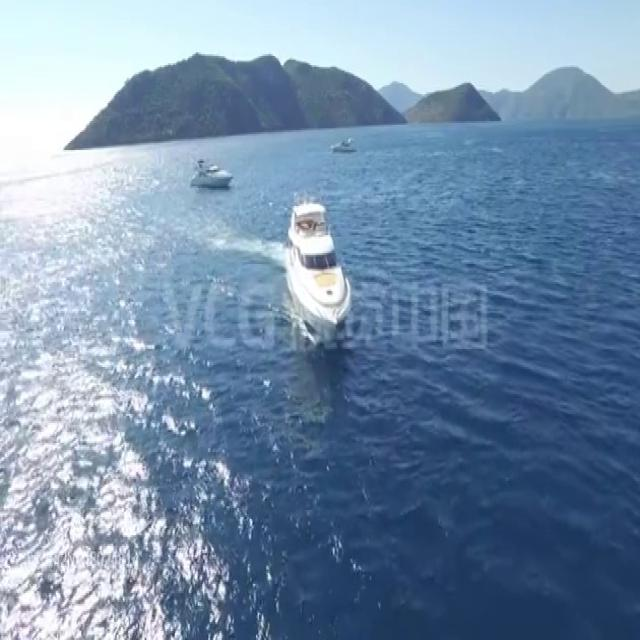houseboat: (285, 198, 349, 329), (191, 153, 234, 191), (332, 136, 356, 154)
